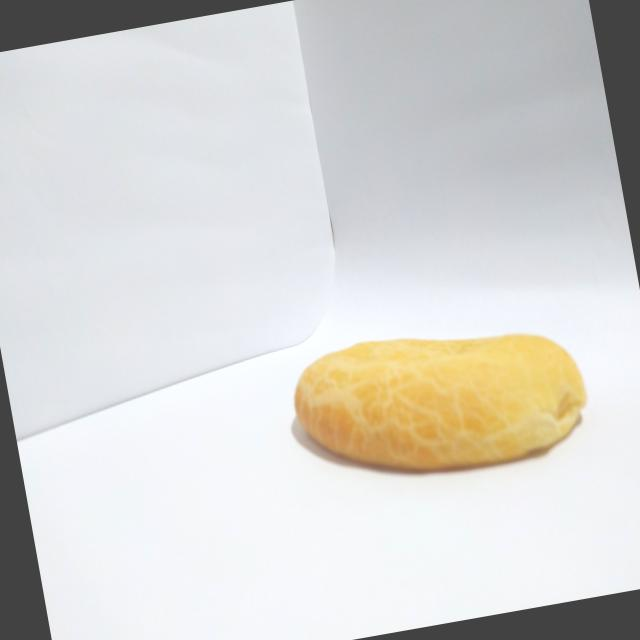Chipa: (265, 296, 608, 524)
